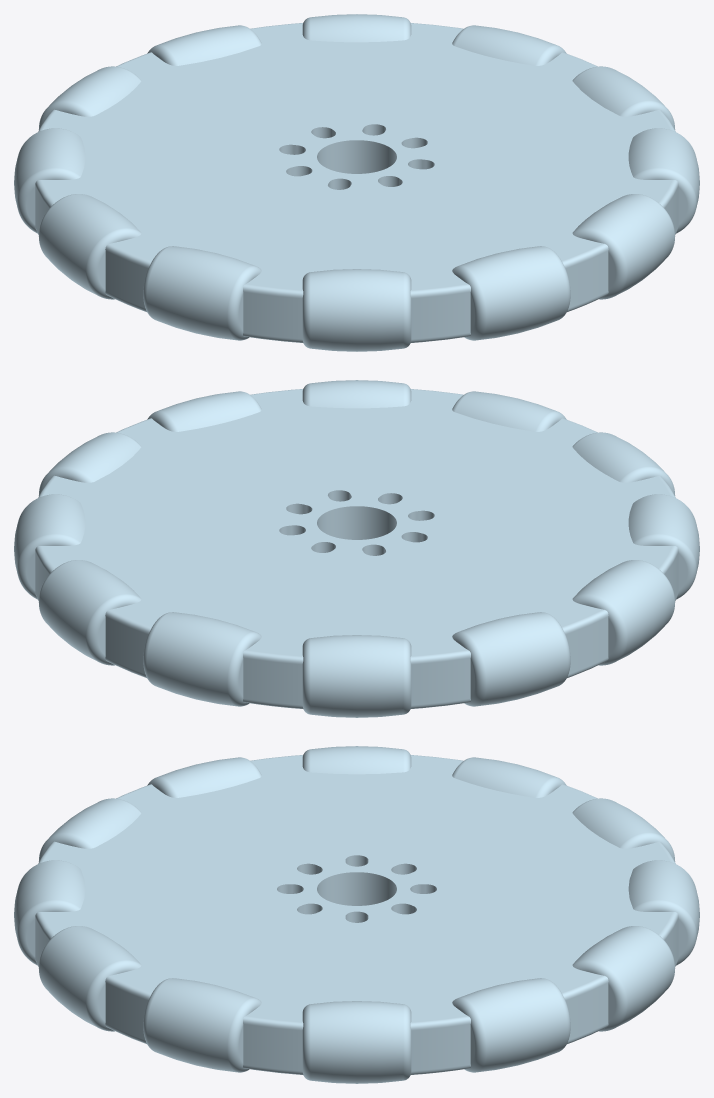
Rendered from Robot_Master Copy 1 - Part 1 (13).gltf.
3 renders of one model, top to bottom at view 1: azimuth 30°, elevation 25°; view 2: azimuth 150°, elevation 25°; view 3: azimuth 270°, elevation 25°, orthographic.
Parts seen in each view (by area): view 1: Part 1; view 2: Part 1; view 3: Part 1.
Boxes of the visible parts, x1,y1,x2,y2 form: Part 1: (14, 14, 699, 351); Part 1: (14, 380, 699, 717); Part 1: (14, 746, 699, 1083).
Size of the model in its own units: 0.12 by 0.0145 by 0.12.
